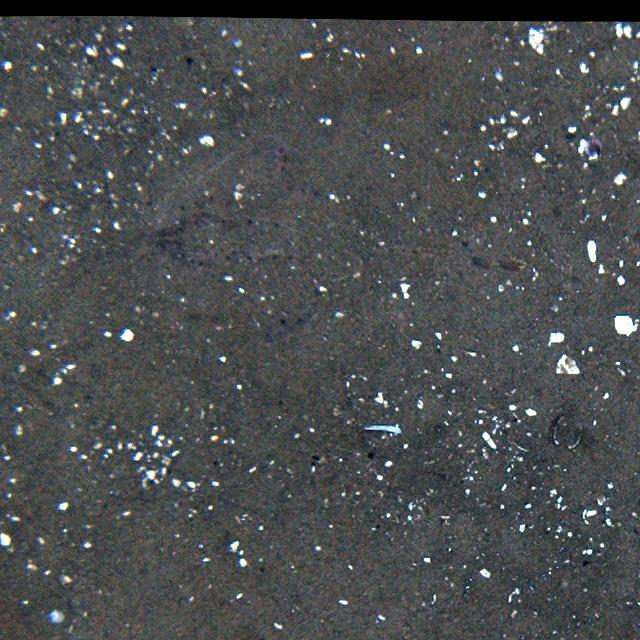skate: (141, 142, 343, 337)
